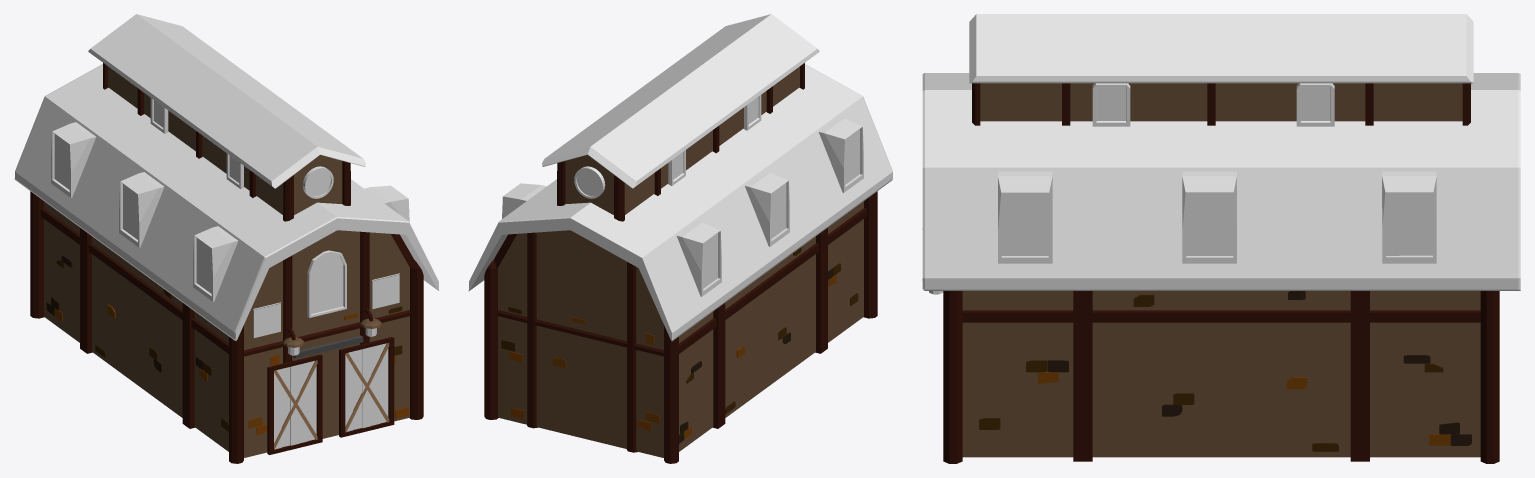
Rendered from Building_Test_2.fbx.
3 views of the same model, side by side, from view 1: azimuth 30°, elevation 25°; view 2: azimuth 150°, elevation 25°; view 3: azimuth 270°, elevation 25° (orthographic). The views are drawn at different scales.
Visible parts, largest first — view 1: Cylinder.003, Cylinder.007, Cylinder.016, Cylinder.127, Cylinder.131, Cylinder.015, Cylinder.020, Cylinder.051, Cylinder.032, Cylinder.031, Cylinder.033, Cylinder.023 (+15 smaller); view 2: Cylinder.007, Cylinder.003, Cylinder.016, Cylinder.015, Cylinder.018, Cylinder.031, Cylinder.033, Cylinder.032, Cylinder.055, Cylinder.023, Cylinder.017, Cylinder.054 (+9 smaller); view 3: Cylinder.003, Cylinder.007, Cylinder.016, Cylinder.015, Cylinder.024, Cylinder.035, Cylinder.036, Cylinder.034, Cylinder.020, Cylinder.018, Cylinder.026, Cylinder.028 (+2 smaller).
Boxes of the visible parts, x1,y1,x2,y2 form: Cylinder.003: (14, 64, 439, 340); Cylinder.007: (44, 201, 409, 457); Cylinder.016: (88, 14, 365, 188); Cylinder.127: (267, 354, 322, 454); Cylinder.131: (339, 337, 394, 437); Cylinder.015: (108, 66, 342, 214); Cylinder.020: (391, 234, 423, 419); Cylinder.051: (307, 250, 346, 317); Cylinder.032: (119, 172, 164, 247); Cylinder.031: (51, 122, 95, 197); Cylinder.033: (193, 226, 237, 301); Cylinder.023: (40, 208, 228, 353); Cylinder.007: (498, 201, 863, 457); Cylinder.003: (468, 64, 893, 341); Cylinder.016: (542, 14, 819, 188); Cylinder.015: (565, 66, 799, 214); Cylinder.018: (484, 234, 516, 419); Cylinder.031: (676, 221, 721, 296); Cylinder.033: (818, 117, 863, 192); Cylinder.032: (745, 171, 789, 246); Cylinder.055: (527, 232, 537, 428); Cylinder.023: (679, 208, 867, 353); Cylinder.017: (664, 325, 678, 463); Cylinder.054: (626, 262, 637, 452); Cylinder.003: (922, 73, 1520, 290); Cylinder.007: (962, 291, 1480, 457); Cylinder.016: (969, 14, 1473, 83); Cylinder.015: (980, 83, 1462, 121); Cylinder.024: (962, 310, 1480, 322); Cylinder.035: (1182, 171, 1236, 263); Cylinder.036: (1382, 171, 1436, 263); Cylinder.034: (998, 171, 1052, 263); Cylinder.020: (943, 291, 962, 463); Cylinder.018: (1480, 291, 1499, 463); Cylinder.026: (1350, 291, 1369, 461); Cylinder.028: (1073, 291, 1092, 461).
Size of the model in its own units: 298 by 399 by 559.
